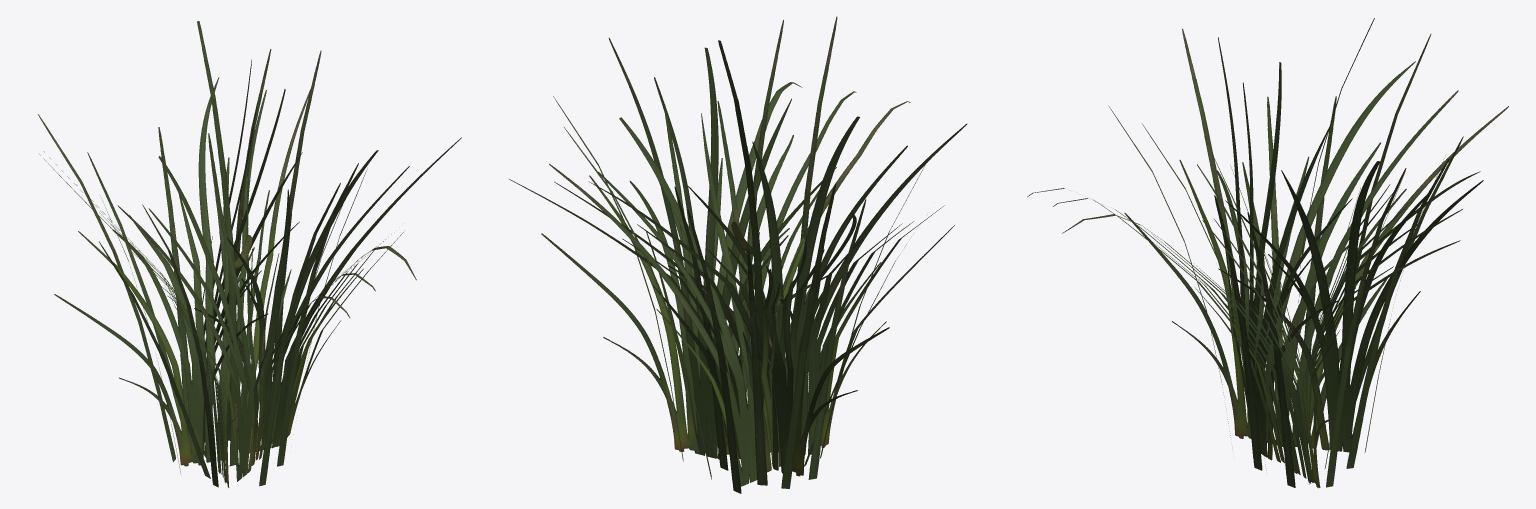
The model's file is SM_TallGrass_Clump2.fbx.
3 renders of one model, left to right at view 1: azimuth 30°, elevation 25°; view 2: azimuth 150°, elevation 25°; view 3: azimuth 270°, elevation 25°, orthographic. The views are drawn at different scales.
Parts seen in each view (by area): view 1: SM_TallGrass_Clump2; view 2: SM_TallGrass_Clump2; view 3: SM_TallGrass_Clump2.
Part boxes in pixels (box(x1,y1,x2,y2)): SM_TallGrass_Clump2: box(38, 21, 461, 487); SM_TallGrass_Clump2: box(509, 16, 967, 493); SM_TallGrass_Clump2: box(1027, 18, 1508, 488).
Size of the model in its own units: 154 by 175 by 168.
